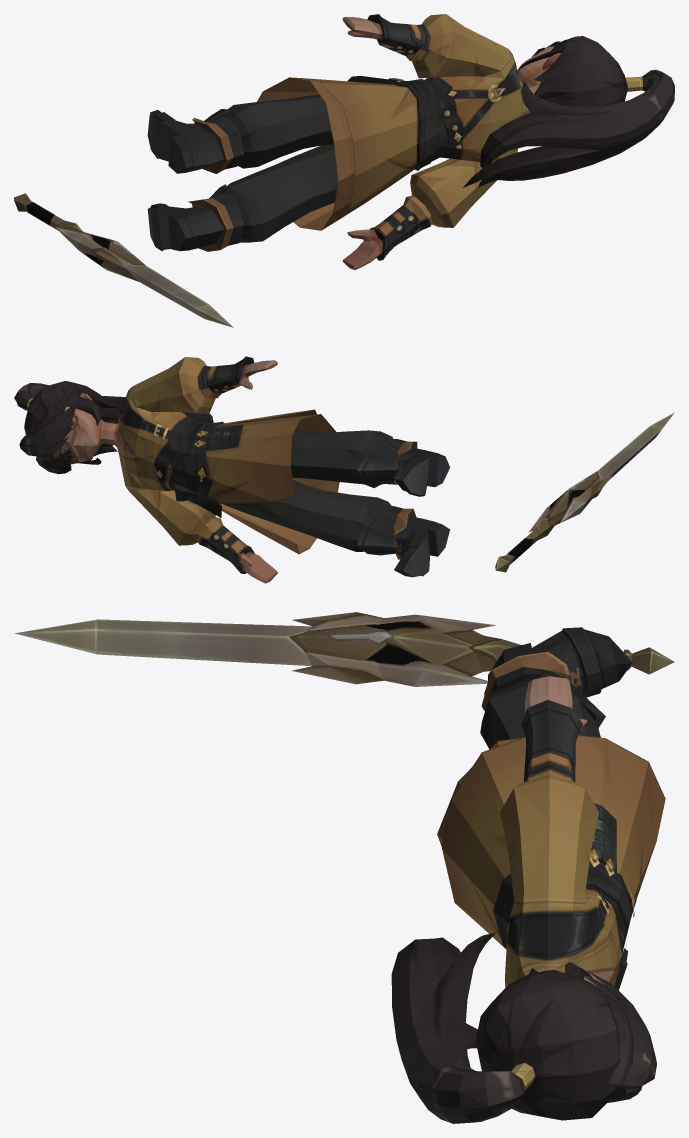
Rendered from mon_dizi_jg_001.obj.
The picture shows the model from 3 angles, top to bottom: view 1: azimuth 30°, elevation 25°; view 2: azimuth 150°, elevation 25°; view 3: azimuth 270°, elevation 25°; orthographic projection. The views are drawn at different scales.
Parts seen in each view (by area): view 1: mon_dizi_jg_001_d, jy_zhanglao_jg_001_wuqi; view 2: mon_dizi_jg_001_d, jy_zhanglao_jg_001_wuqi; view 3: mon_dizi_jg_001_d, jy_zhanglao_jg_001_wuqi.
Part boxes in pixels (x1=…): mon_dizi_jg_001_d: x1=147, y1=14, x2=674, y2=269; jy_zhanglao_jg_001_wuqi: x1=14, y1=193, x2=233, y2=327; mon_dizi_jg_001_d: x1=14, y1=356, x2=449, y2=583; jy_zhanglao_jg_001_wuqi: x1=495, y1=412, x2=674, y2=572; mon_dizi_jg_001_d: x1=391, y1=627, x2=665, y2=1123; jy_zhanglao_jg_001_wuqi: x1=15, y1=612, x2=674, y2=686.
Bounding box in the file's own units: 2.6 × 0.9988 × 1.54.
2 materials, 2 textured.
